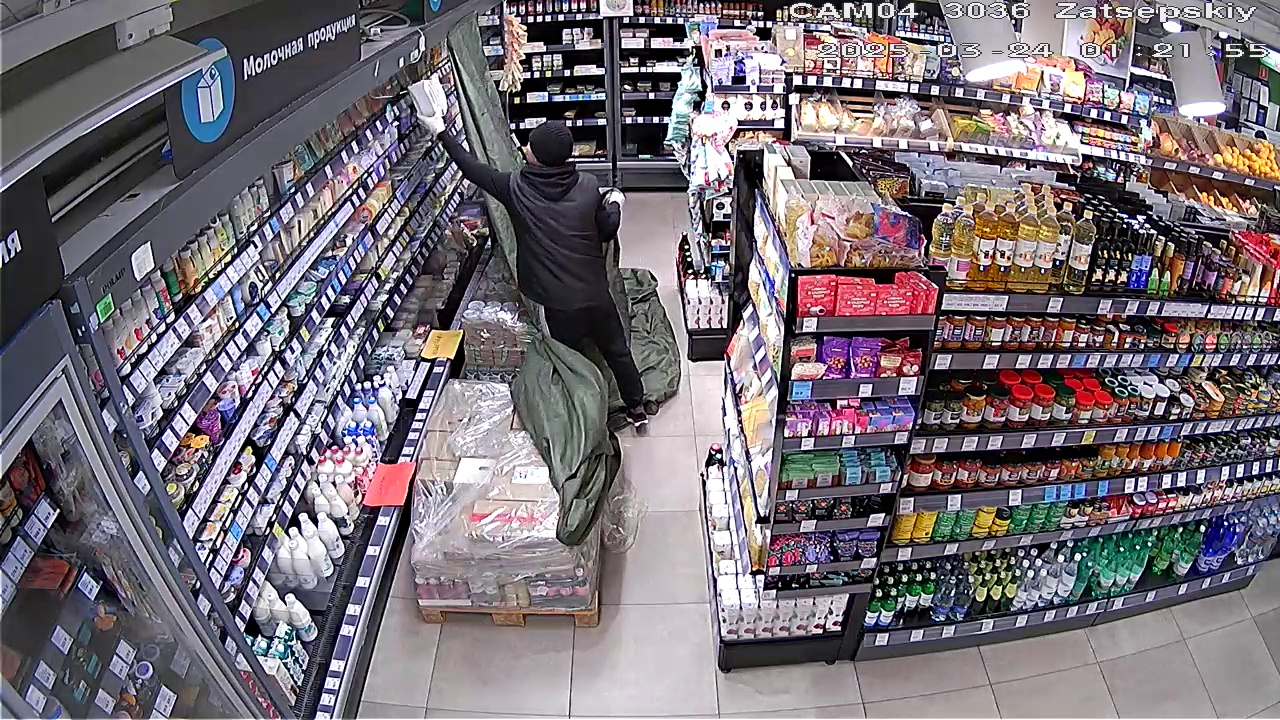Human: (415, 91, 648, 377)
pallet: (431, 381, 606, 626)
